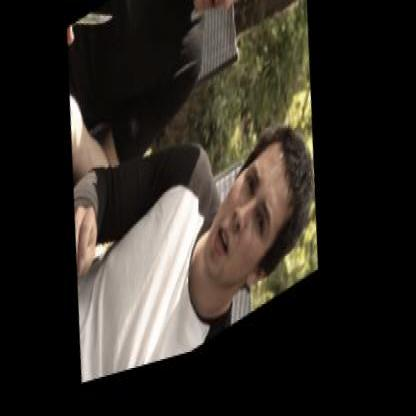knife: (64, 1, 122, 70)
